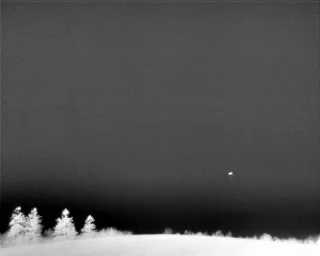BIRD: (225, 168, 236, 180)
